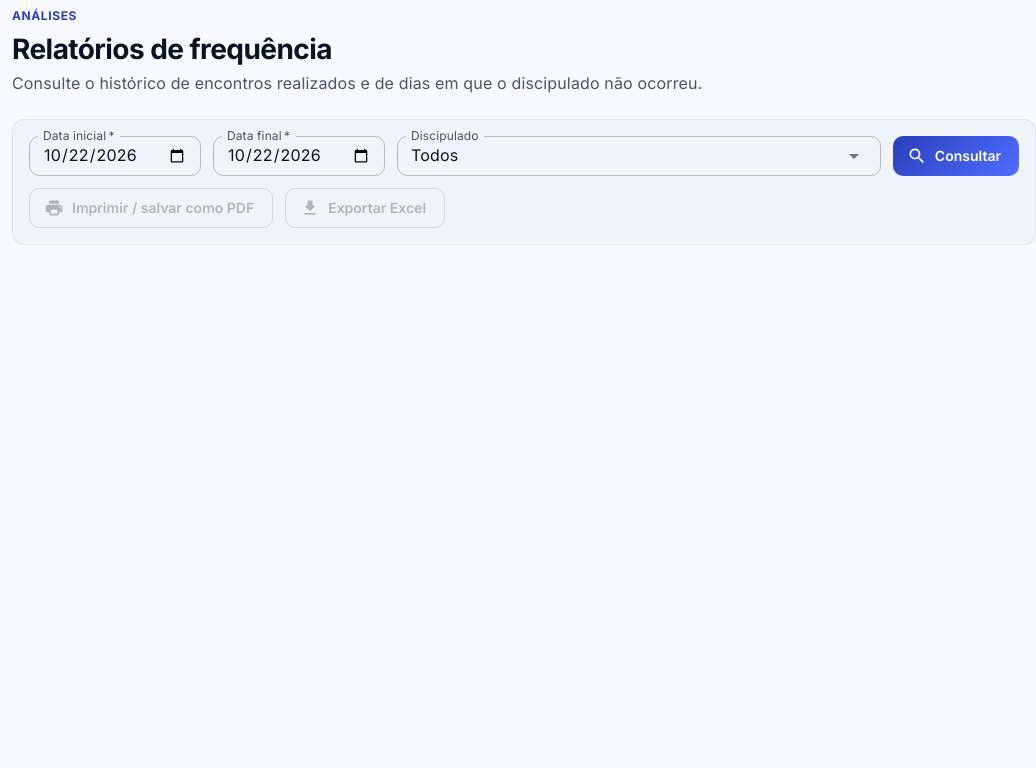
it: relatório diário de frequência › lista adolescentes quando o período é um único dia
Type "2026-07-21" into the date field labelled "Data inicial *" at (115, 156), box top-left (29, 136), bottom-right (201, 176)
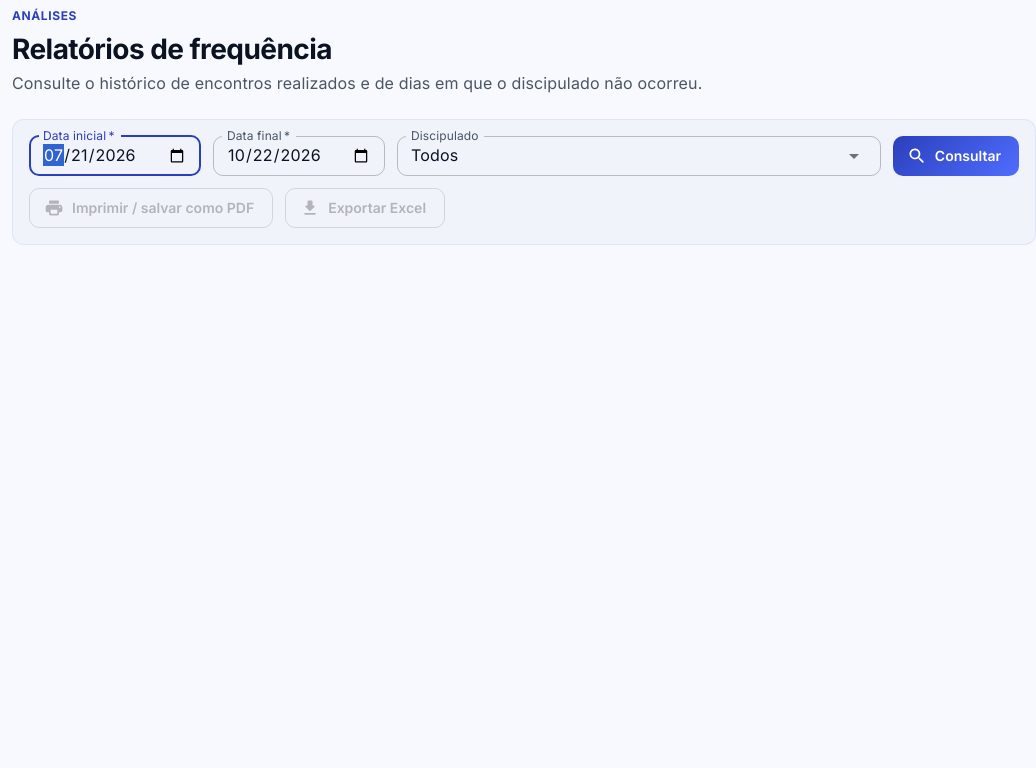
Type "2026-07-21" into the date field labelled "Data final *" at (299, 156), box top-left (213, 136), bottom-right (385, 176)
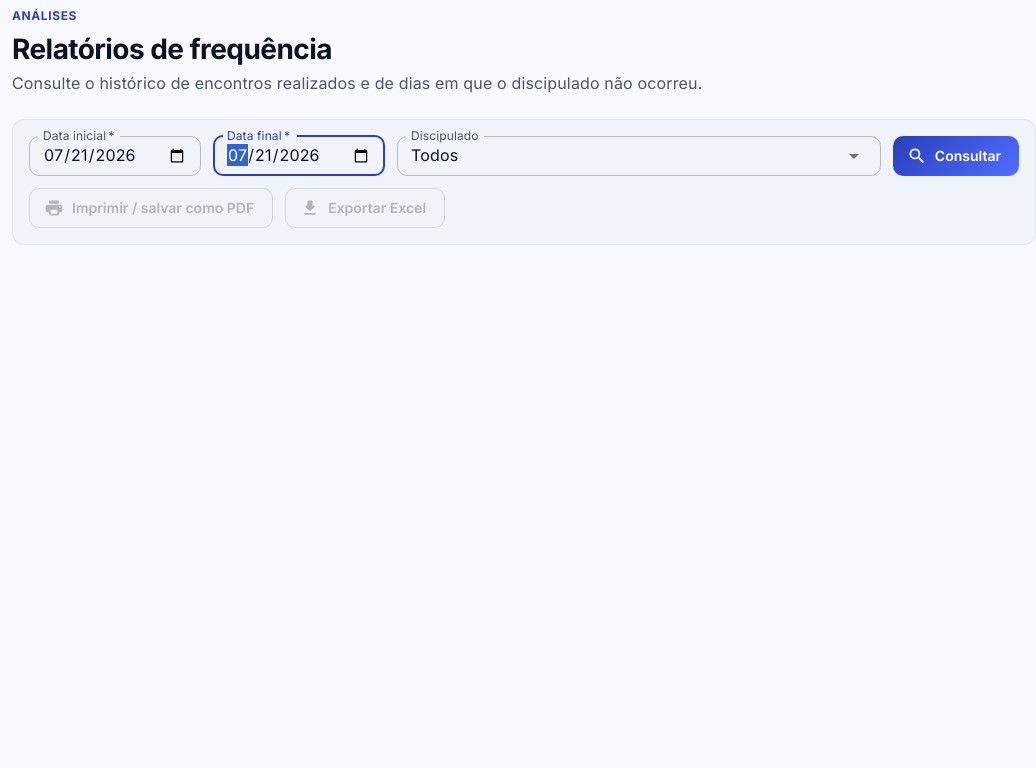
Click the button "Consultar" at (956, 156), box top-left (893, 136), bottom-right (1019, 176)
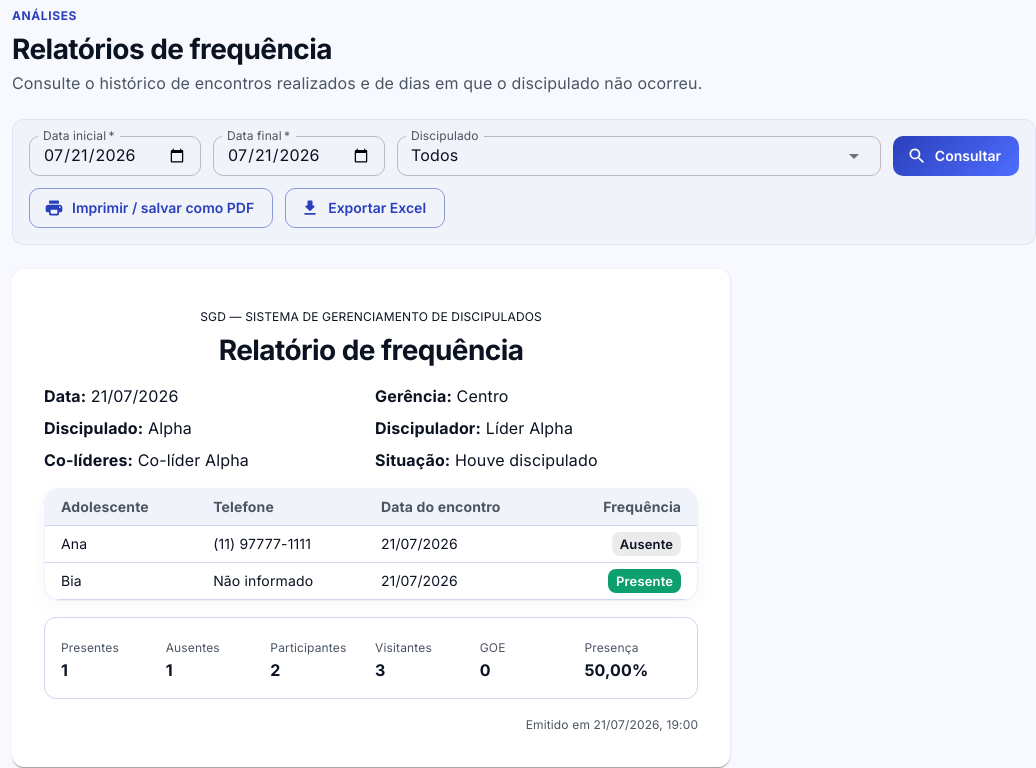
Now the table named "Frequência do Alpha em 21/07/2026" is shown, box top-left (45, 489), bottom-right (697, 600)
Now the text "Ana" is shown, box top-left (45, 525), bottom-right (197, 562)
Now the text "Bia" is shown, box top-left (45, 562), bottom-right (197, 599)
